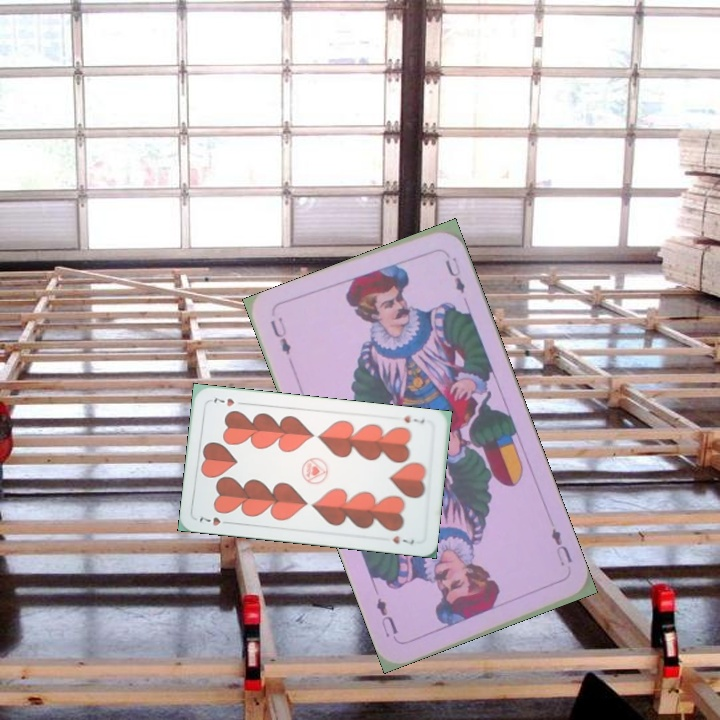EU: (266, 312, 294, 358), (547, 524, 575, 569)
H7: (195, 512, 234, 528), (400, 411, 427, 426)
